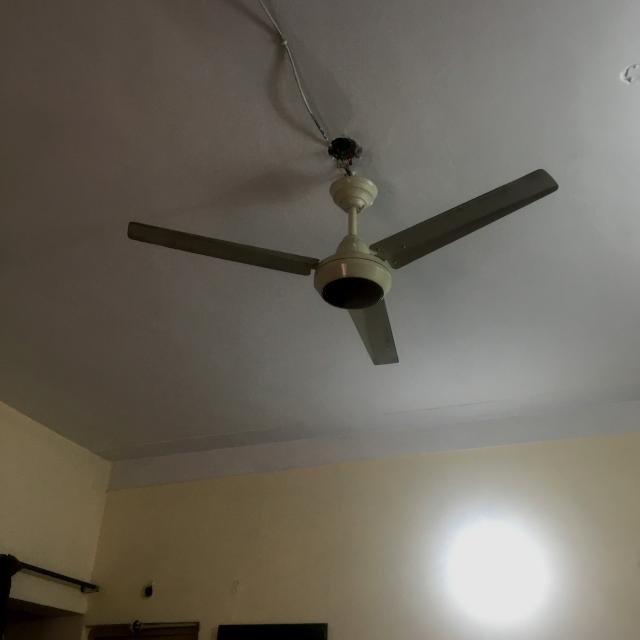off: (119, 158, 568, 375)
